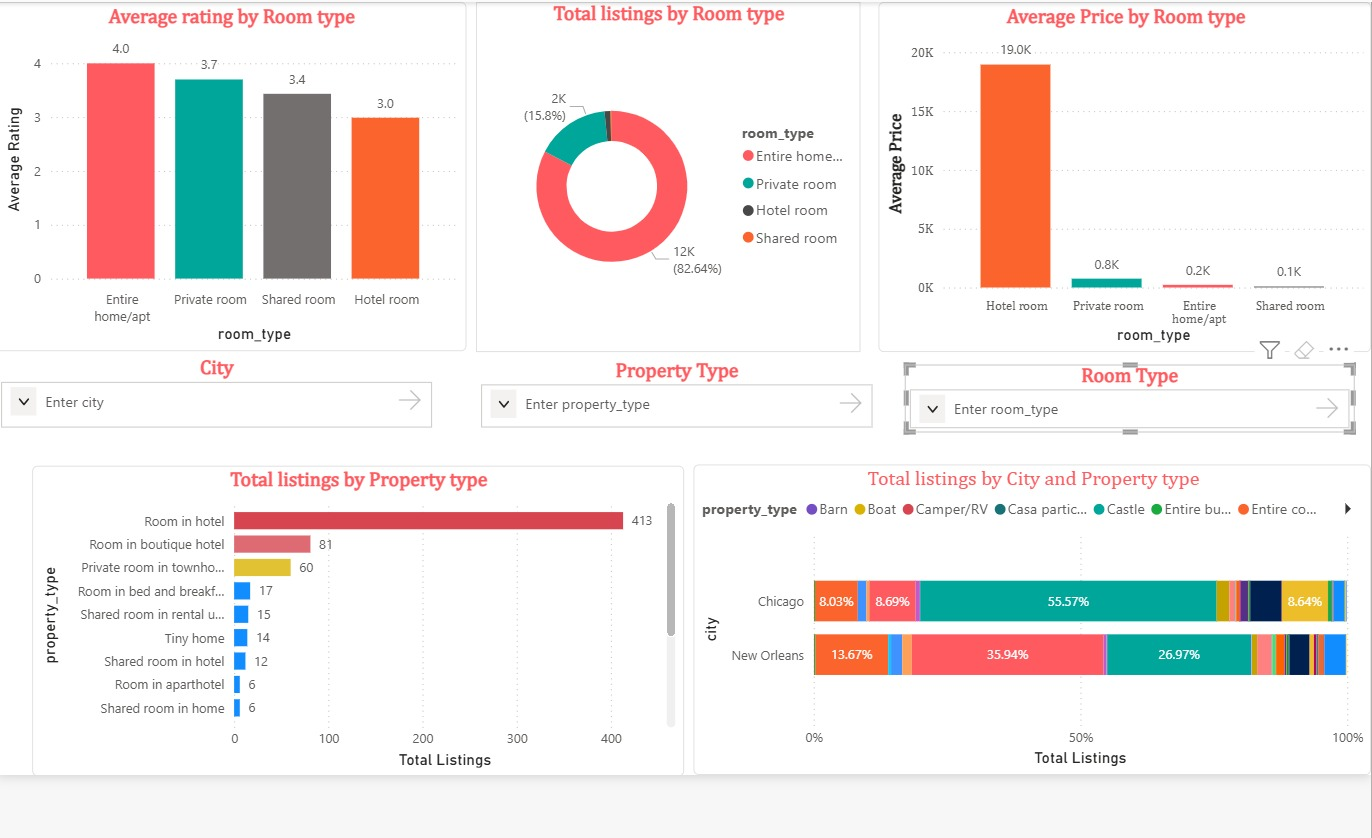

The page's visual inventory and layout, read from the dashboard file:
{"tool":"powerbi","page":{"name":"Property Analysis","canvas":[1280,720],"ordinal":1},"visuals":[{"type":"hundredPercentStackedBarChart","title":"Total listings by City and Property type","fields":{"Category":["Airbnb_data.city"],"Y":["Airbnb_data.Total Listings"],"Series":["Airbnb_data.property_type"]},"box":[648.7,430.1,631.1,289.1],"z":0},{"type":"donutChart","title":"Total listings by Room type","fields":{"Category":["Airbnb_data.room_type"],"Y":["Airbnb_data.Total Listings"]},"box":[446.6,0,357.5,325.4],"z":1000},{"type":"clusteredBarChart","title":"Total listings by Property type","fields":{"Category":["Airbnb_data.property_type"],"Y":["Airbnb_data.Total Listings"]},"box":[34.2,431.1,606.2,289.1],"z":2000},{"type":"clusteredColumnChart","title":"Average Price by Room type","fields":{"Category":["Airbnb_data.room_type"],"Y":["Airbnb_data.Average Price"]},"box":[820.7,0,459.1,325.4],"z":3000},{"type":"clusteredColumnChart","title":"Average rating by Room type","fields":{"Category":["Airbnb_data.room_type"],"Y":["Airbnb_data.Average Rating"]},"box":[0,0,437.3,325.1],"z":4000},{"type":"textSlicer","title":"City","fields":{"Values":["Airbnb_data.city"]},"box":[0,330.1,410.8,70.6],"z":5000},{"type":"textSlicer","title":"Property Type","fields":{"Values":["Airbnb_data.property_type"]},"box":[446.6,332.6,374.1,68.4],"z":6000},{"type":"textSlicer","title":"Room Type","fields":{"Values":["Airbnb_data.room_type"]},"box":[845.6,336.8,418.7,64.2],"z":7000}]}

Visuals, with their boxes on the page's 1280x720 design canvas (x1, y1, x2, y2). These are canvas units, not pixel positions in the 1372x838 screenshot, which may show the page scaled, cropped or inside an application window:
"Total listings by City and Property type" hundredPercentStackedBarChart: <bbox>649, 430, 1280, 719</bbox>
"Total listings by Room type" donutChart: <bbox>447, 0, 804, 325</bbox>
"Total listings by Property type" clusteredBarChart: <bbox>34, 431, 640, 720</bbox>
"Average Price by Room type" clusteredColumnChart: <bbox>821, 0, 1280, 325</bbox>
"Average rating by Room type" clusteredColumnChart: <bbox>0, 0, 437, 325</bbox>
"City" textSlicer: <bbox>0, 330, 411, 401</bbox>
"Property Type" textSlicer: <bbox>447, 333, 821, 401</bbox>
"Room Type" textSlicer: <bbox>846, 337, 1264, 401</bbox>
